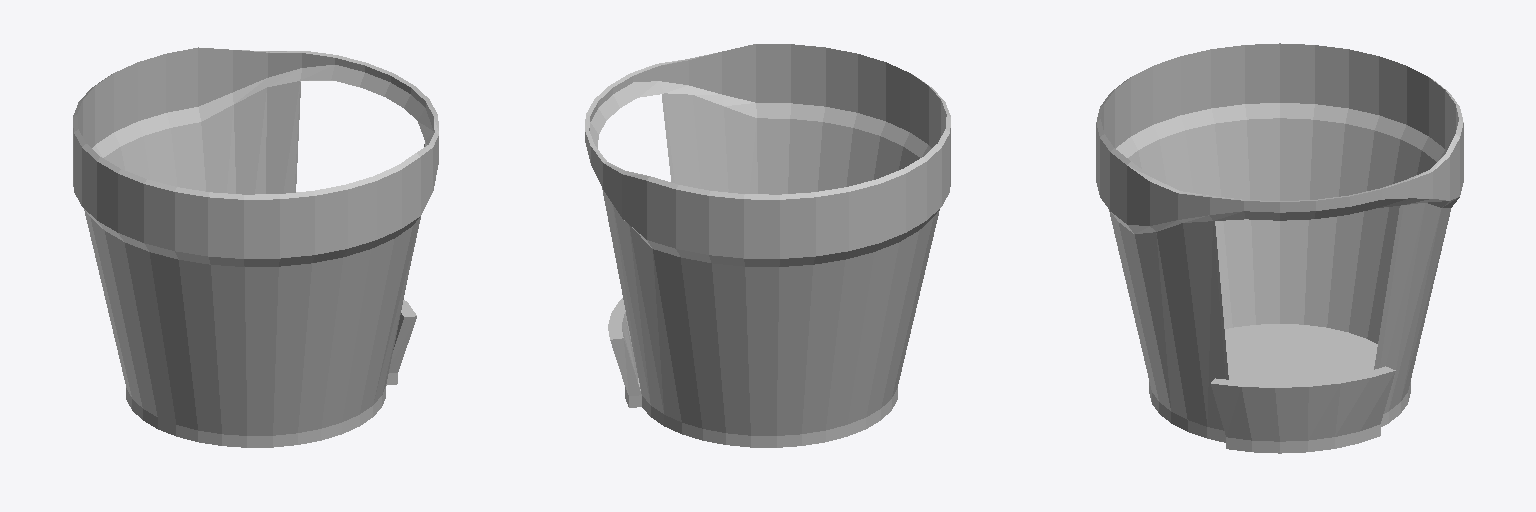
The model's file is Bucket_NoHandle.obj.
3 renders of one model, left to right at view 1: azimuth 30°, elevation 25°; view 2: azimuth 150°, elevation 25°; view 3: azimuth 270°, elevation 25°, orthographic.
Parts seen in each view (by area): view 1: Cylinder; view 2: Cylinder; view 3: Cylinder.
Boxes of the visible parts, x1,y1,x2,y2 form: Cylinder: [73, 47, 438, 447]; Cylinder: [585, 44, 950, 447]; Cylinder: [1096, 43, 1463, 453].
Bounding box in the file's own units: 2.81 × 2.31 × 2.81.